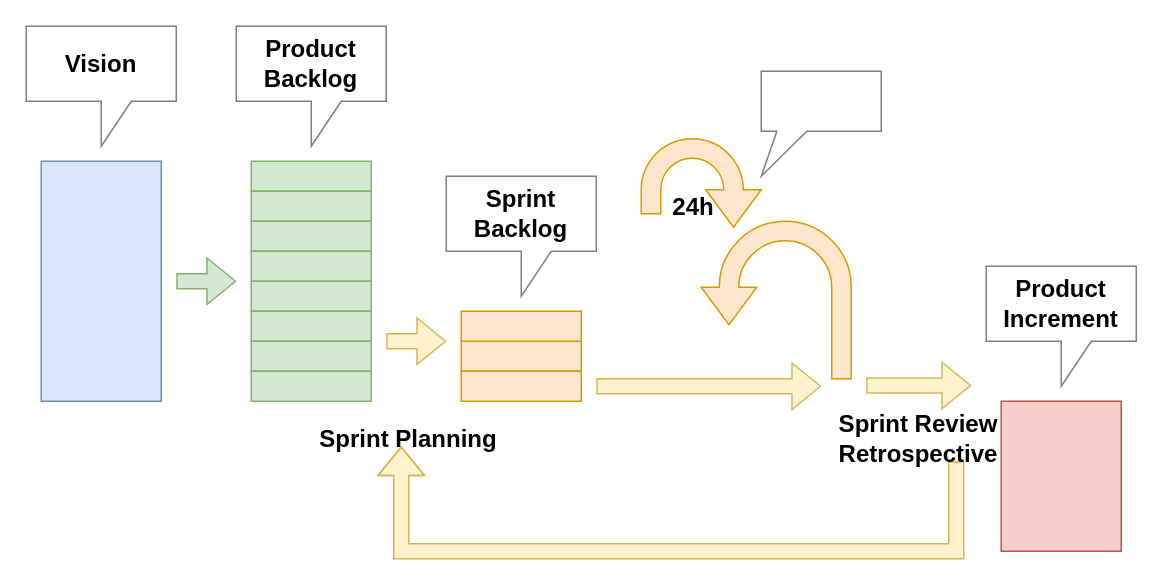
This 1163x585 diagram has some shape labels left out. Here are the shapes that lost their labels. From the top down, the centre of each, then its label:
(x=820, y=123): Daily SCRUM
(x=775, y=299): 1-4 w
